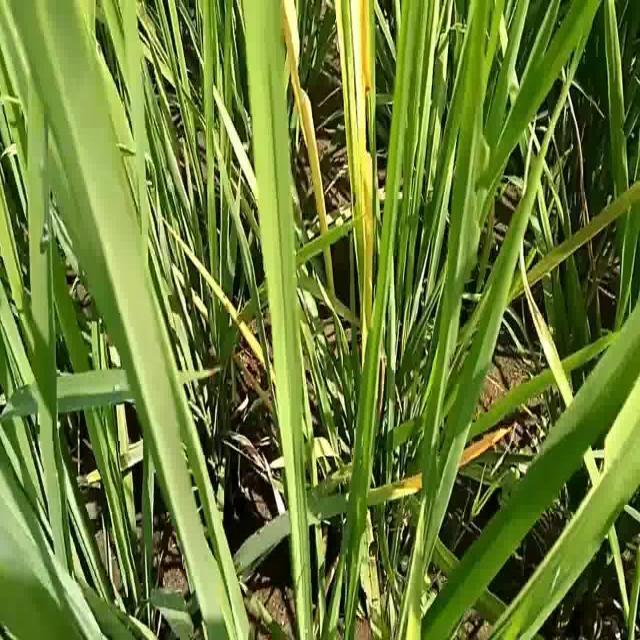Rice Tungro: (280, 2, 330, 248), (351, 1, 379, 276), (334, 1, 361, 275)
